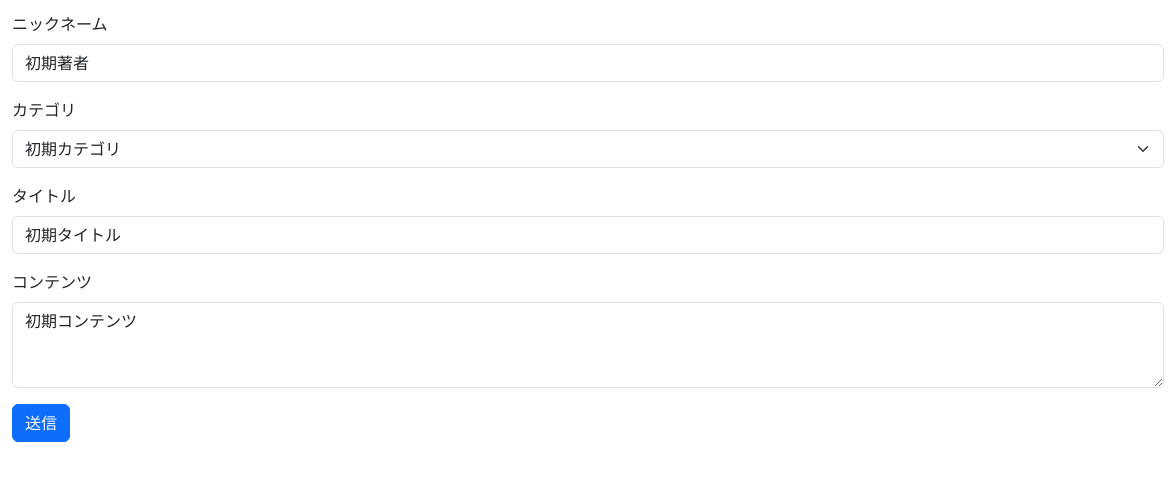
Test: PostForm › 必須フィールドが空の場合にエラーメッセージを表示すること
Clear the field with placeholder "タイトル" at (588, 235), box [12,216,1164,254]
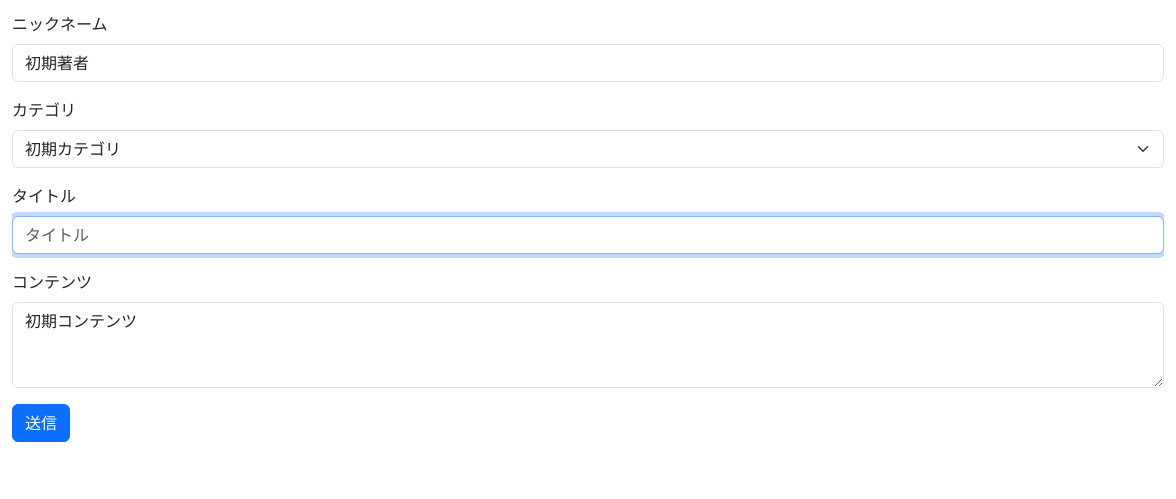
Clear the text box with placeholder "コンテンツ" at (588, 345), box [12,302,1164,388]
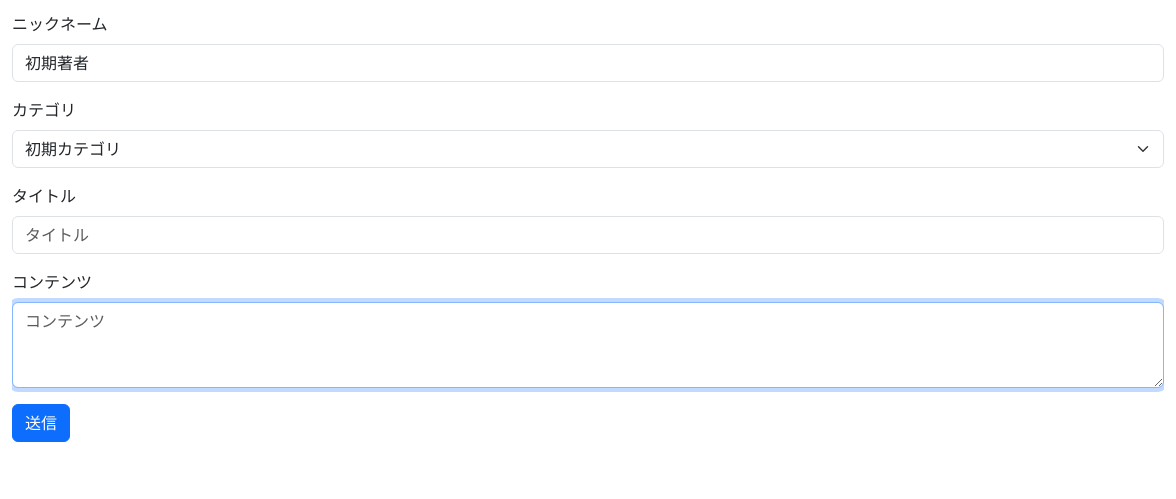
Click the button "送信".
click(41, 423)  # box [12,404,70,442]
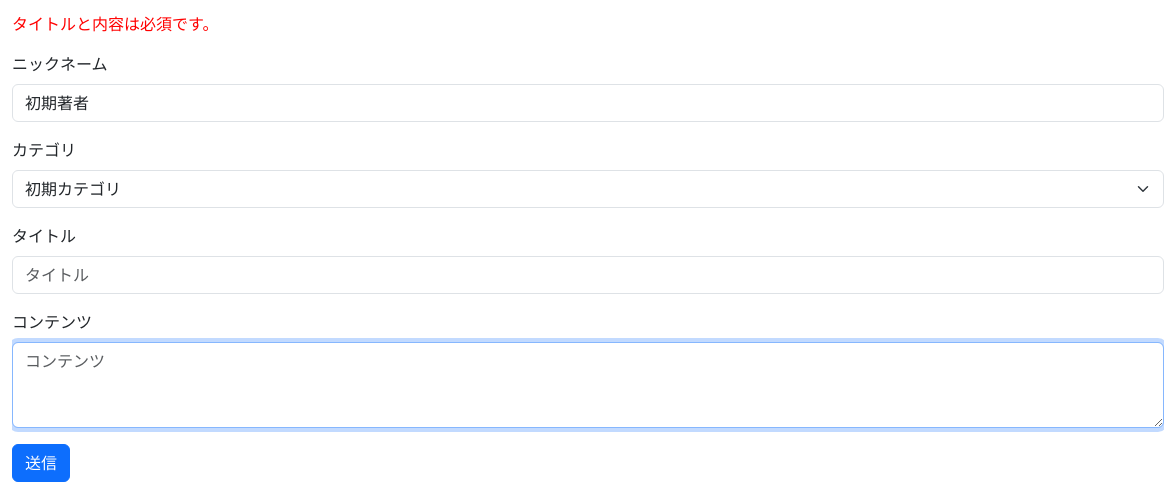
Check: the text "タイトルと内容は必須です。" is shown, box [12,13,218,35]
